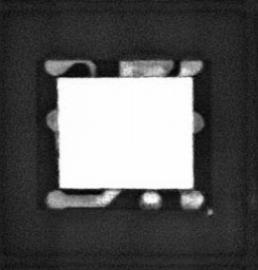DIE_INK: (206, 207, 215, 216)
